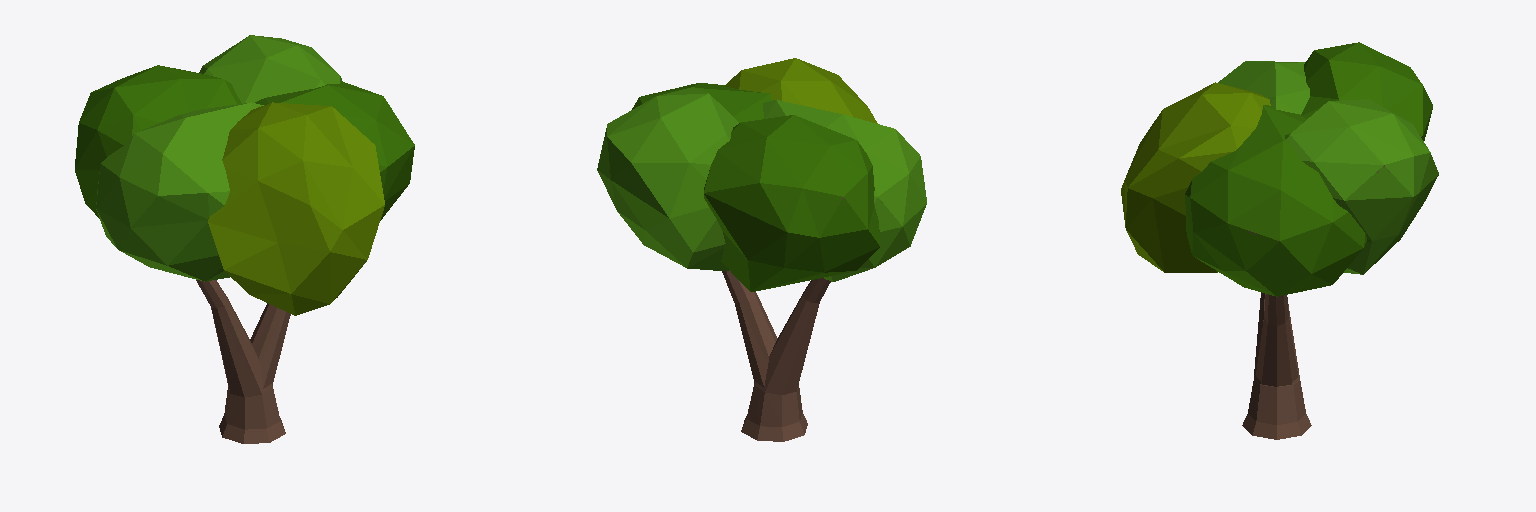
3 views of the same model, side by side, from view 1: azimuth 30°, elevation 25°; view 2: azimuth 150°, elevation 25°; view 3: azimuth 270°, elevation 25° (orthographic).
Visible parts, largest first — view 1: Split_trunk_deciduous_tree_green_leaves; view 2: Split_trunk_deciduous_tree_green_leaves; view 3: Split_trunk_deciduous_tree_green_leaves.
Boxes of the visible parts, box(x1,y1,x2,y2) form: Split_trunk_deciduous_tree_green_leaves: box(75, 35, 414, 443); Split_trunk_deciduous_tree_green_leaves: box(597, 58, 926, 441); Split_trunk_deciduous_tree_green_leaves: box(1121, 42, 1438, 439).
Bounding box in the file's own units: 2.36 × 2.63 × 2.21.
1 materials, 1 textured.